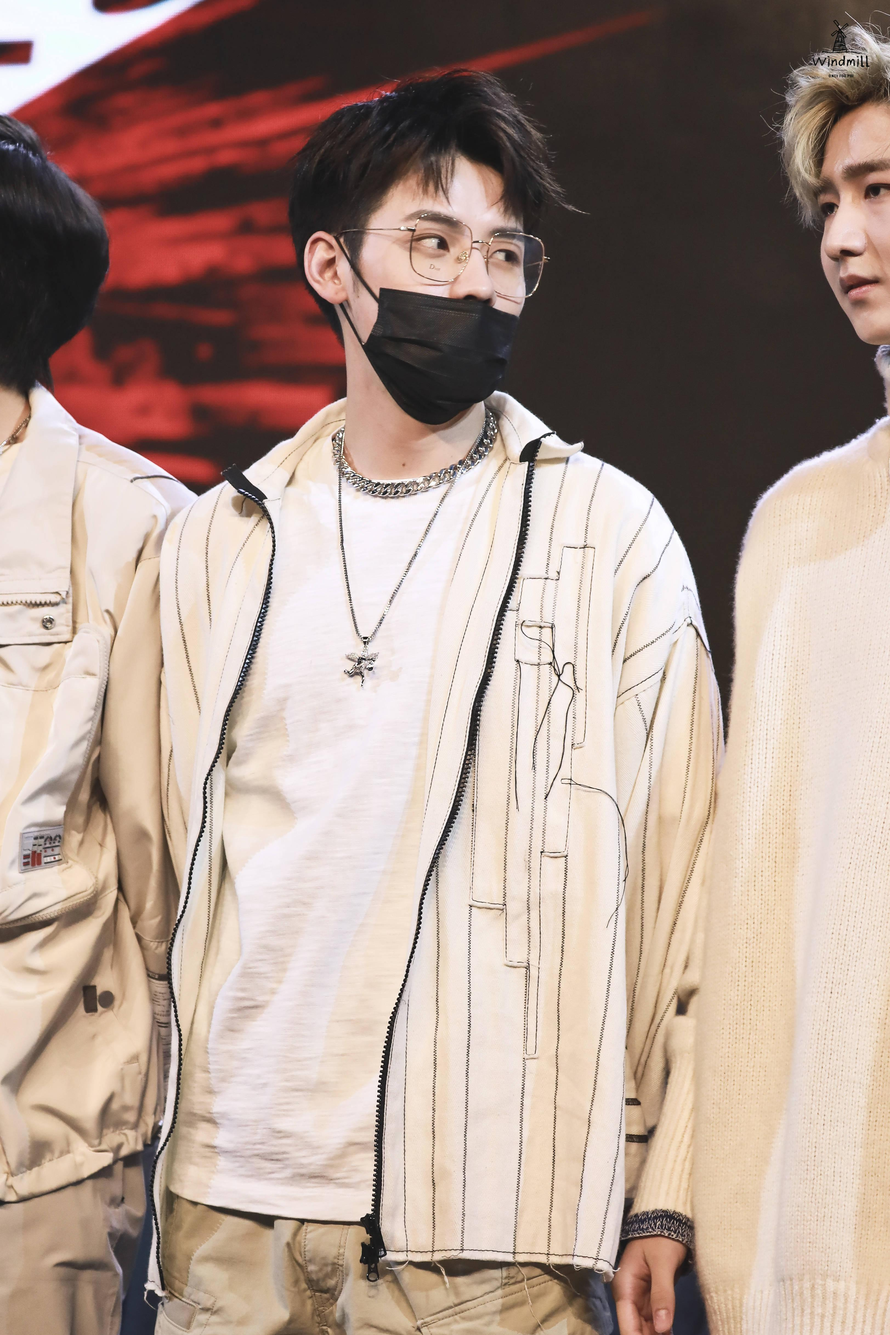NONE: (817, 148, 890, 347)
WRONG: (365, 201, 525, 415)
